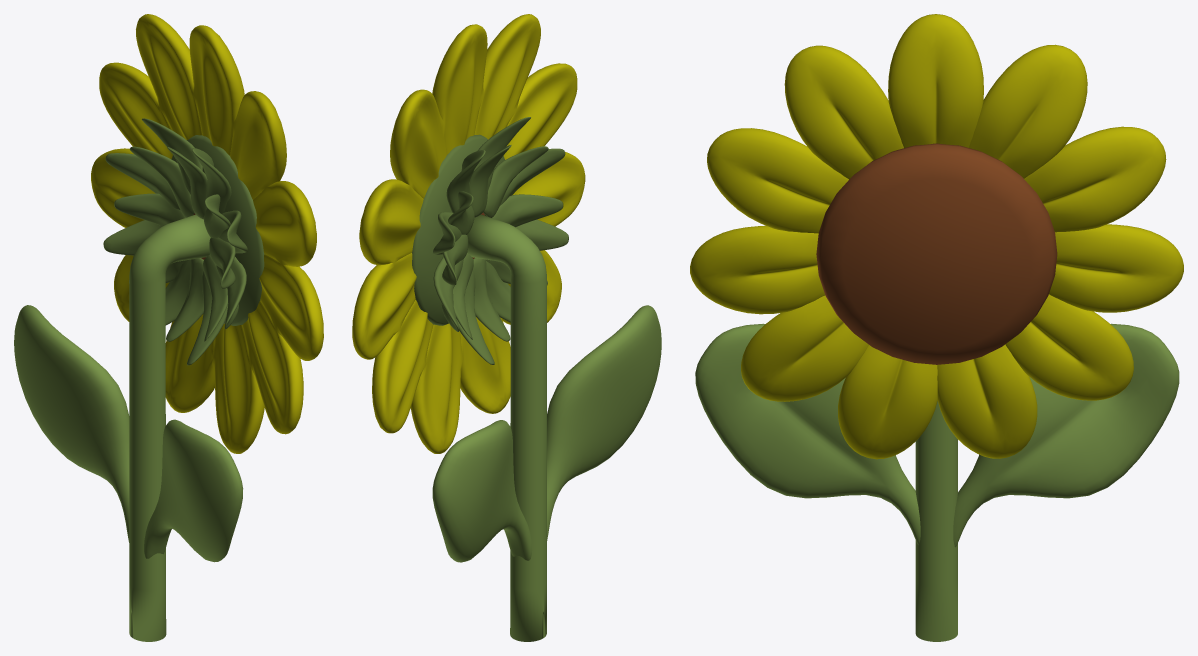
Rendered from sunflower.glb.
3 views of the same model, side by side, from view 1: azimuth 30°, elevation 25°; view 2: azimuth 150°, elevation 25°; view 3: azimuth 270°, elevation 25° (orthographic). The views are drawn at different scales.
Parts seen in each view (by area): view 1: Sepals, Stem, Leaf-R, Leaf-L, Back-2, Back-1, Back-0; view 2: Sepals, Stem, Leaf-L, Leaf-R, Back-2, Back-1, Back-0; view 3: Sepals, Center, Leaf-R, Leaf-L, Stem.
Boxes of the visible parts, box(x1,y1,x2,y2) form: Sepals: box(91, 14, 323, 453); Stem: box(129, 214, 210, 641); Leaf-R: box(14, 305, 129, 542); Leaf-L: box(144, 419, 243, 562); Back-2: box(114, 146, 235, 341); Back-1: box(103, 118, 247, 365); Back-0: box(171, 135, 264, 325); Sepals: box(352, 14, 585, 453); Stem: box(467, 214, 546, 641); Leaf-L: box(547, 305, 661, 540); Leaf-R: box(432, 420, 532, 562); Back-2: box(442, 145, 563, 341); Back-1: box(433, 117, 568, 364); Back-0: box(412, 134, 504, 325); Sepals: box(690, 14, 1183, 459); Center: box(816, 143, 1057, 364); Leaf-R: box(953, 323, 1179, 547); Leaf-L: box(695, 323, 920, 544); Stem: box(915, 401, 957, 641).
Bounding box in the file's own units: 0.1686 × 0.6269 × 0.4316.
